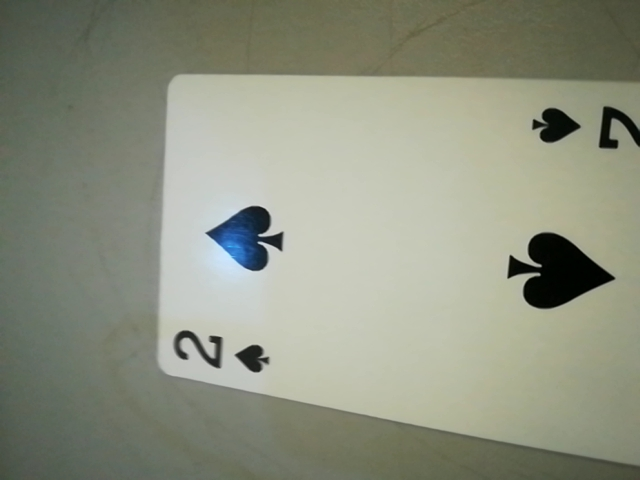ht 2: (145, 317, 294, 393)
